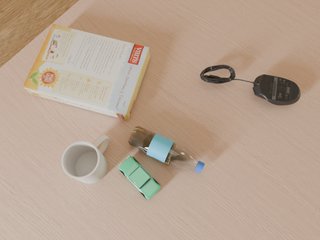bottle: (129, 126, 205, 173)
box: (23, 24, 150, 120)
cup: (62, 135, 109, 183)
mouse: (252, 74, 301, 105)
toy_car: (119, 156, 160, 200)
